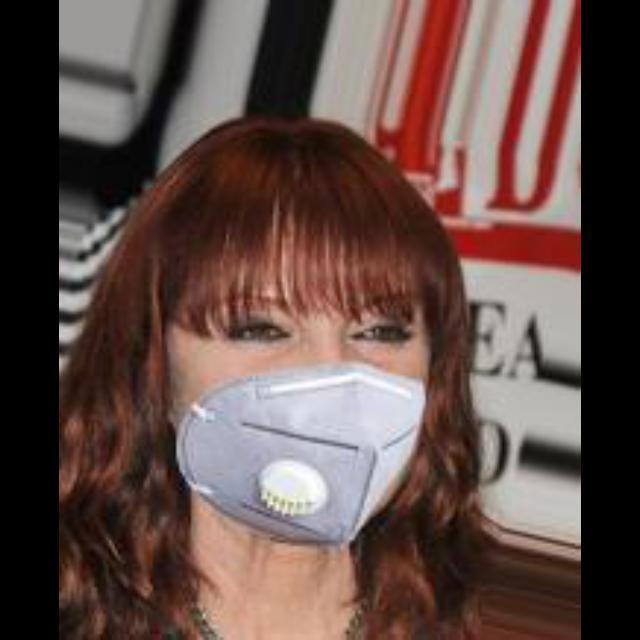suspicion: (81, 138, 471, 554)
